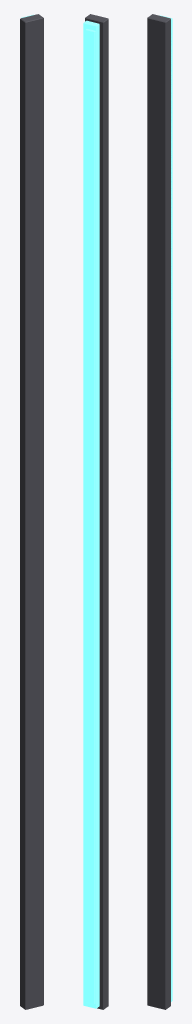
Rendered from emissive_edge_yard_l.glb.
3 views of the same model, side by side, from view 1: azimuth 30°, elevation 25°; view 2: azimuth 150°, elevation 25°; view 3: azimuth 330°, elevation 25° (orthographic).
Visible parts, largest first — view 1: FlightKit_EmissiveEdge_yard_L; view 2: FlightKit_EmissiveEdge_yard_L; view 3: FlightKit_EmissiveEdge_yard_L.
Part boxes in pixels (box(x1,y1,x2,y2)): FlightKit_EmissiveEdge_yard_L: box(20, 14, 43, 1009); FlightKit_EmissiveEdge_yard_L: box(83, 14, 108, 1009); FlightKit_EmissiveEdge_yard_L: box(147, 14, 172, 1009).
Bounding box in the file's own units: 0.28 × 13.93 × 0.25.
